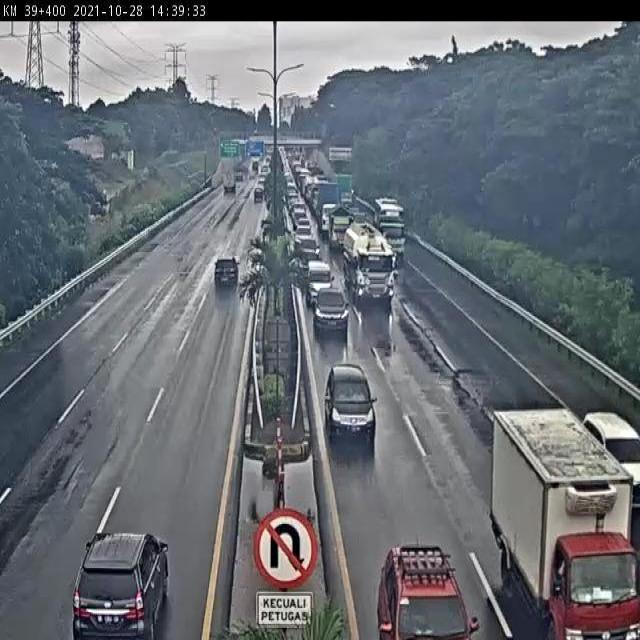big bus: (371, 200, 408, 248), (296, 237, 325, 260)
big truck: (488, 405, 640, 640), (342, 229, 401, 315)
car: (64, 522, 182, 638), (382, 542, 478, 640), (588, 392, 640, 484), (322, 362, 374, 446), (305, 281, 351, 335), (208, 253, 244, 296), (302, 256, 331, 299)
